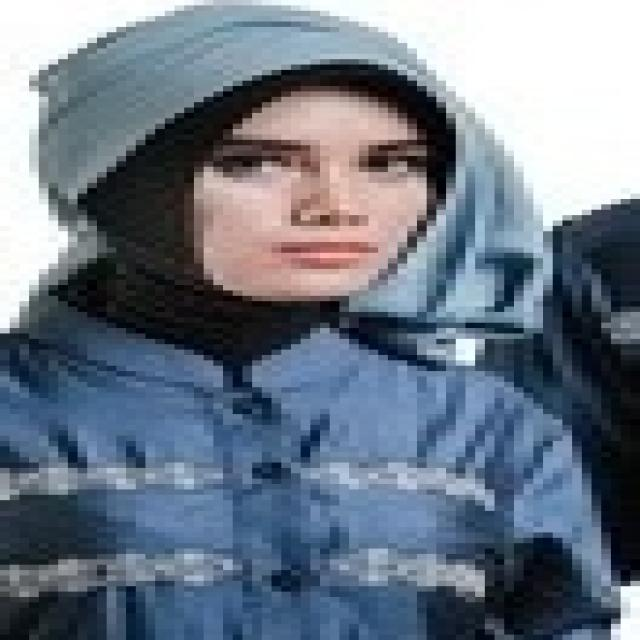head: (94, 15, 492, 313)
